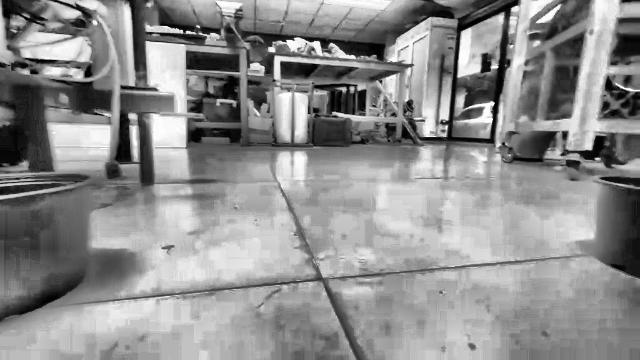pot: (0, 172, 91, 320), (594, 176, 639, 278)
